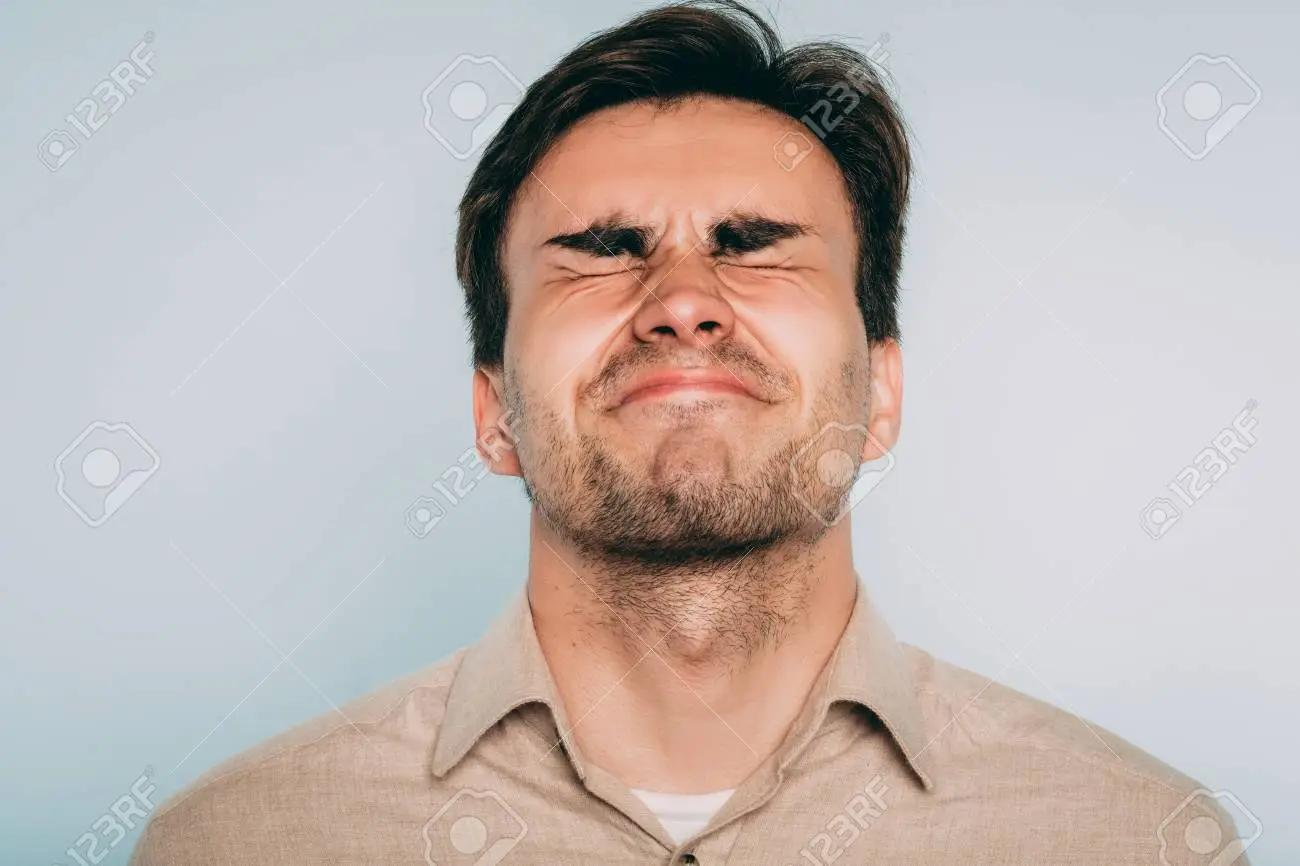pain: (519, 198, 849, 306)
